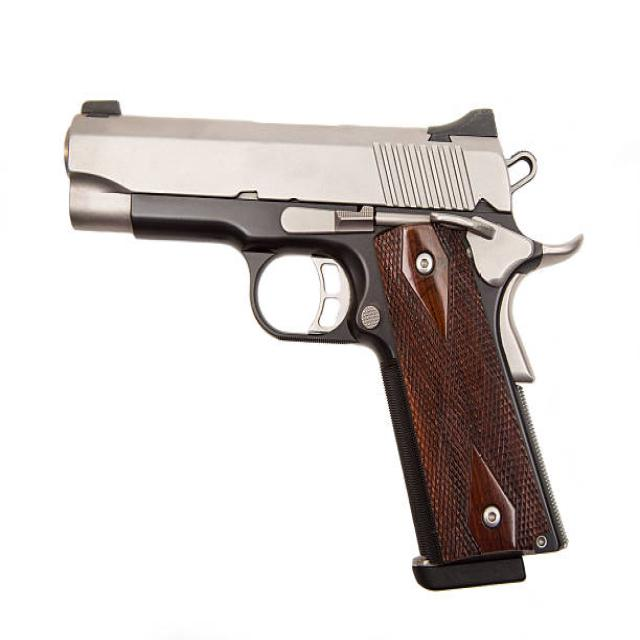pistol: (62, 86, 583, 601)
